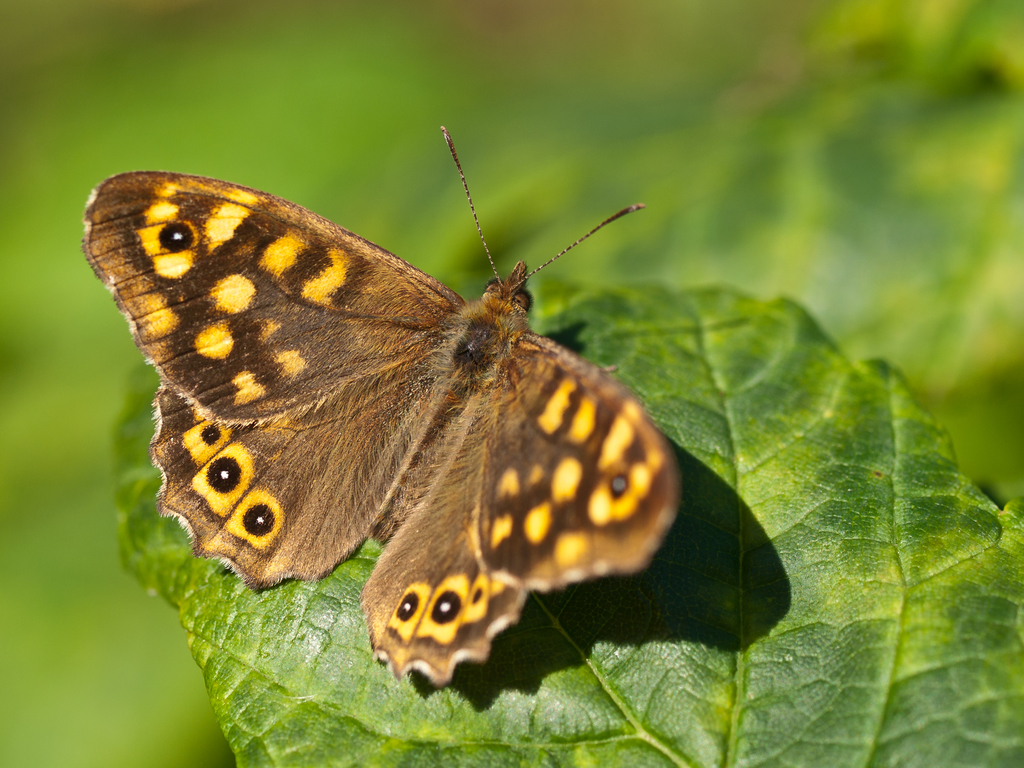Butterfly: (72, 129, 718, 712)
